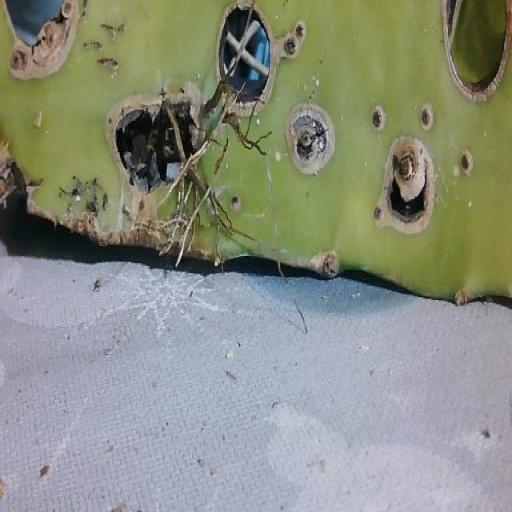stemcanker: (351, 73, 390, 139), (453, 136, 486, 198), (415, 79, 441, 137)
